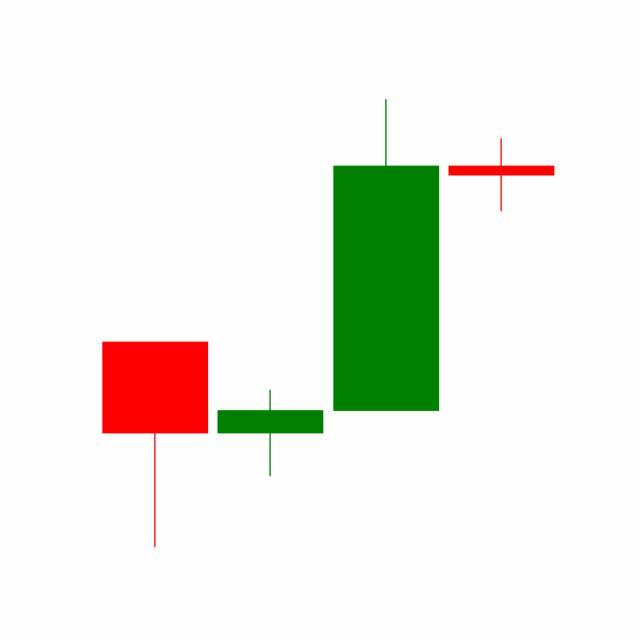Spinning Top: (444, 138, 560, 213)
